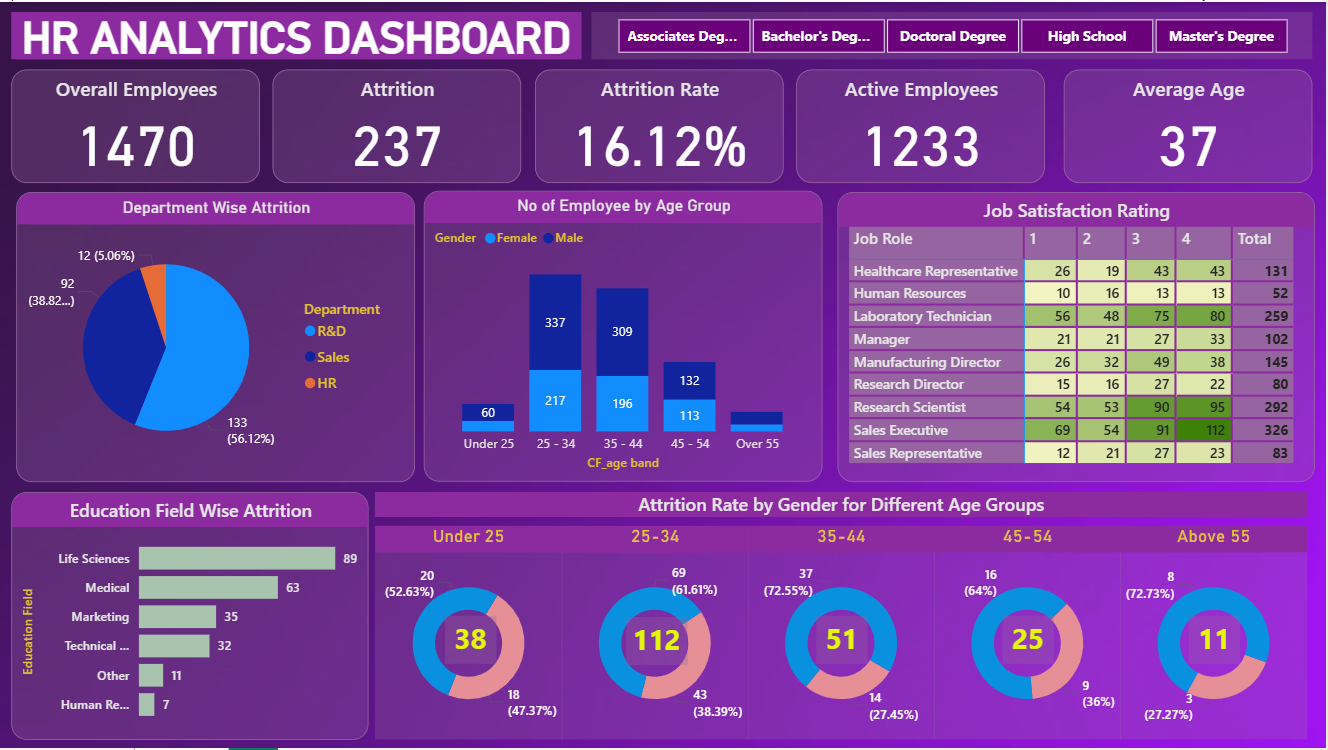

The page's visual inventory and layout, read from the dashboard file:
{"tool":"powerbi","page":{"name":"Page 1","canvas":[1280,720],"ordinal":0},"visuals":[{"type":"card","title":"Overall Employees","fields":{"Values":["Sum(Sheet1.Employee Count)"]},"box":[10.9,65.1,240.1,109.8],"z":0},{"type":"card","title":"Attrition","fields":{"Values":["Sum(Sheet1.Attrition Count)"]},"box":[263,65.1,240.1,109.8],"z":1000},{"type":"card","title":"Attrition Rate","fields":{"Values":["Sheet1.Attrition Rate"]},"box":[516.4,65.1,240.1,109.8],"z":2000},{"type":"card","title":"Active Employees","fields":{"Values":["Sheet1.Active Employees"]},"box":[768.5,65.1,240.1,109.8],"z":3000},{"type":"card","title":"Average Age","fields":{"Values":["Avg(Sheet1.Age)"]},"box":[1026.7,65.1,240.1,109.8],"z":4000},{"type":"pieChart","title":"Department Wise Attrition","fields":{"Category":["Sheet1.Department"],"Y":["Sum(Sheet1.Attrition Count)"]},"box":[15.7,183.4,384.9,279.9],"z":5000},{"type":"columnChart","title":"No of Employee by Age Group","fields":{"Category":["Sheet1.CF_age band"],"Y":["Sum(Sheet1.Employee Count)"],"Series":["Sheet1.Gender"]},"box":[409,182.2,384.9,281.1],"z":6000},{"type":"pivotTable","title":"Job Satisfaction Rating","fields":{"Rows":["Sheet1.Job Role"],"Columns":["Sheet1.Job Satisfaction"],"Values":["Sum(Sheet1.Employee Count)"]},"box":[808.3,183.4,460.9,279.9],"z":7000},{"type":"barChart","title":"Education Field Wise Attrition","fields":{"Category":["Sheet1.Education Field"],"Y":["Sum(Sheet1.Attrition Count)"]},"box":[10.9,472.9,345,238.9],"z":8000},{"type":"donutChart","title":"Under 25","fields":{"Category":["Sheet1.Gender"],"Y":["Sum(Sheet1.Attrition Count)"],"Series":["Sheet1.CF_age band"]},"box":[361.9,505.5,181,206.3],"z":9000},{"type":"textbox","title":"Attrition Rate by Gender for Different Age Groups","box":[361.9,472.9,900,24.1],"z":10000},{"type":"donutChart","title":"25-34","fields":{"Category":["Sheet1.Gender"],"Y":["Sum(Sheet1.Attrition Count)"],"Series":["Sheet1.CF_age band"]},"box":[541.7,505.5,181,206.3],"z":11000},{"type":"donutChart","title":"35-44","fields":{"Category":["Sheet1.Gender"],"Y":["Sum(Sheet1.Attrition Count)"],"Series":["Sheet1.CF_age band"]},"box":[721.5,505.5,181,206.3],"z":12000},{"type":"donutChart","title":"45-54","fields":{"Category":["Sheet1.Gender"],"Y":["Sum(Sheet1.Attrition Count)"],"Series":["Sheet1.CF_age band"]},"box":[901.2,505.5,181,206.3],"z":13000},{"type":"donutChart","title":"Above 55","fields":{"Category":["Sheet1.Gender"],"Y":["Sum(Sheet1.Attrition Count)"],"Series":["Sheet1.CF_age band"]},"box":[1081,505.5,181,206.3],"z":14000},{"type":"card","fields":{"Values":["Sum(Sheet1.Attrition Count)"]},"box":[429.5,592.8,49.4,46.7],"z":15000},{"type":"card","fields":{"Values":["Sum(Sheet1.Attrition Count)"]},"box":[605,593,59,46],"z":16000},{"type":"card","fields":{"Values":["Sum(Sheet1.Attrition Count)"]},"box":[787.7,592.8,49.4,46.7],"z":17000},{"type":"card","fields":{"Values":["Sum(Sheet1.Attrition Count)"]},"box":[967.4,592.8,49.4,46.7],"z":18000},{"type":"card","fields":{"Values":["Sum(Sheet1.Attrition Count)"]},"box":[1147.2,592.8,49.4,46.7],"z":19000},{"type":"textbox","title":"HR ANALYTICS DASHBOARD","box":[11,9.6,550.3,45.3],"z":20000},{"type":"slicer","fields":{"Values":["Sheet1.Education"]},"box":[570.6,9.7,696.1,45.8],"z":21000}]}

Visuals, with their boxes in screenshot pixels (x1, y1, x2, y2), scaled from the page's 1280x720 canvas onto the 1328x750 screenshot:
"Overall Employees" card: detection(11, 68, 260, 182)
"Attrition" card: detection(273, 68, 522, 182)
"Attrition Rate" card: detection(536, 68, 785, 182)
"Active Employees" card: detection(797, 68, 1046, 182)
"Average Age" card: detection(1065, 68, 1314, 182)
"Department Wise Attrition" pieChart: detection(16, 191, 416, 483)
"No of Employee by Age Group" columnChart: detection(424, 190, 824, 483)
"Job Satisfaction Rating" pivotTable: detection(839, 191, 1317, 483)
"Education Field Wise Attrition" barChart: detection(11, 493, 369, 741)
"Under 25" donutChart: detection(375, 527, 563, 741)
"Attrition Rate by Gender for Different Age Groups" textbox: detection(375, 493, 1309, 518)
"25-34" donutChart: detection(562, 527, 750, 741)
"35-44" donutChart: detection(749, 527, 936, 741)
"45-54" donutChart: detection(935, 527, 1123, 741)
"Above 55" donutChart: detection(1122, 527, 1309, 741)
card - Sum(Sheet1.Attrition Count): detection(446, 618, 497, 666)
card - Sum(Sheet1.Attrition Count): detection(628, 618, 689, 666)
card - Sum(Sheet1.Attrition Count): detection(817, 618, 868, 666)
card - Sum(Sheet1.Attrition Count): detection(1004, 618, 1055, 666)
card - Sum(Sheet1.Attrition Count): detection(1190, 618, 1241, 666)
"HR ANALYTICS DASHBOARD" textbox: detection(11, 10, 582, 57)
slicer - Sheet1.Education: detection(592, 10, 1314, 58)
